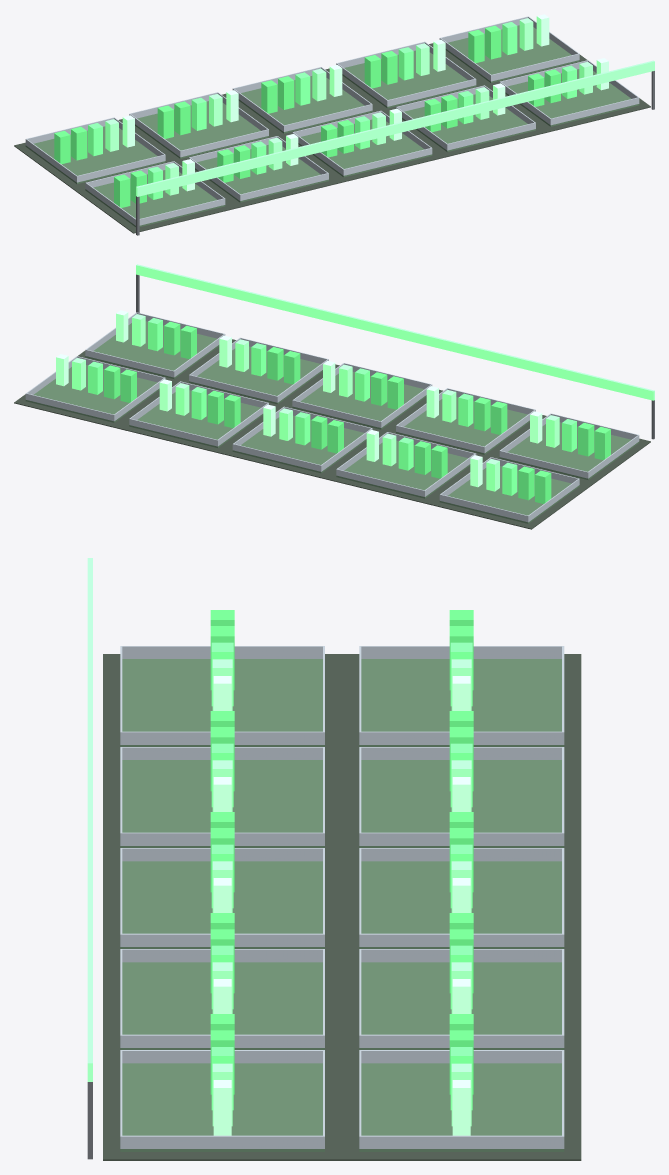
File: pack-robotics-os.glb
3 renders of one model, top to bottom at view 1: azimuth 30°, elevation 25°; view 2: azimuth 150°, elevation 25°; view 3: azimuth 270°, elevation 25°, orthographic. The views are drawn at different scales.
Visible parts, largest first — view 1: Cognition.X : Robotics OS; view 2: Cognition.X : Robotics OS; view 3: Cognition.X : Robotics OS.
Part boxes in pixels (bbox=[...]): Cognition.X : Robotics OS: bbox=[14, 14, 654, 235]; Cognition.X : Robotics OS: bbox=[14, 264, 654, 529]; Cognition.X : Robotics OS: bbox=[87, 558, 581, 1160].
Size of the model in its own units: 70 by 6.3 by 28.9.
